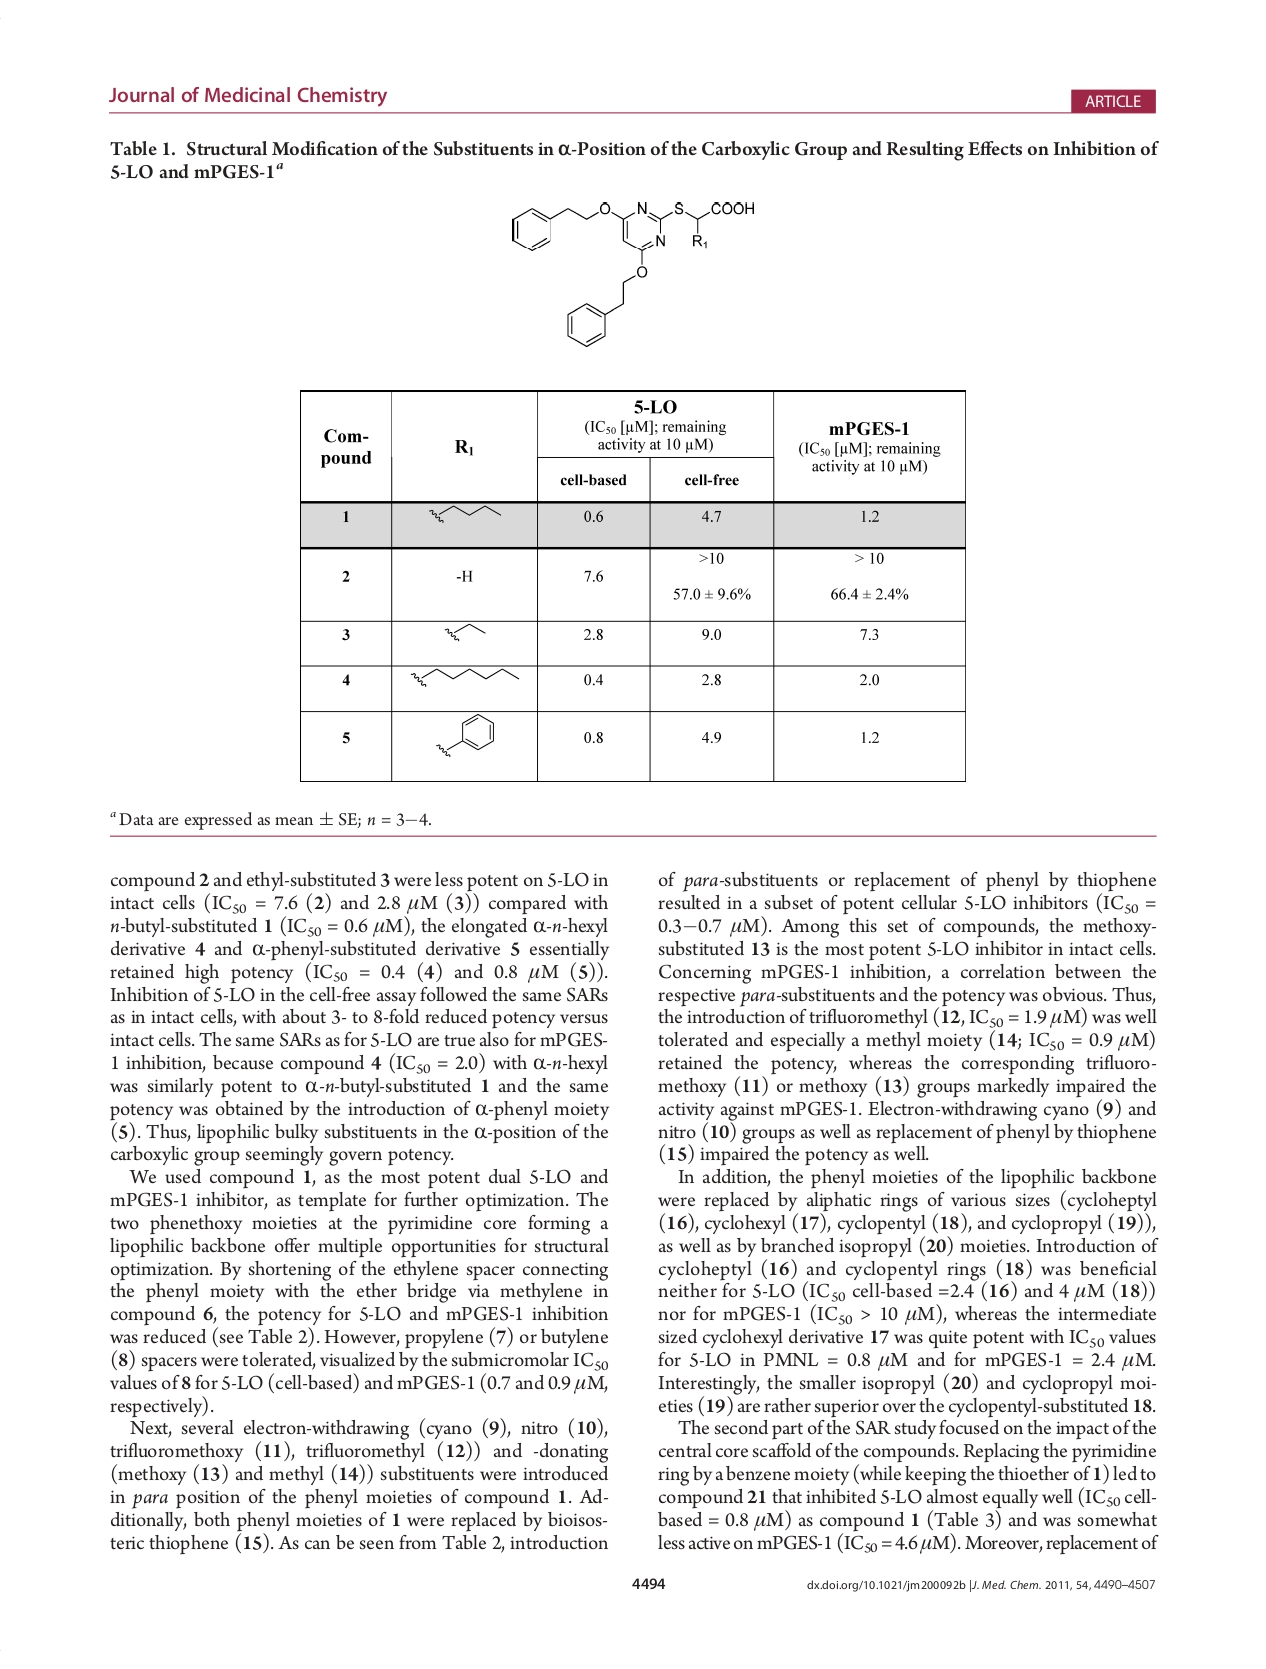exist_molecular: (501, 195, 758, 350), (435, 710, 500, 762), (408, 668, 521, 692), (426, 505, 509, 527), (436, 624, 487, 642)
